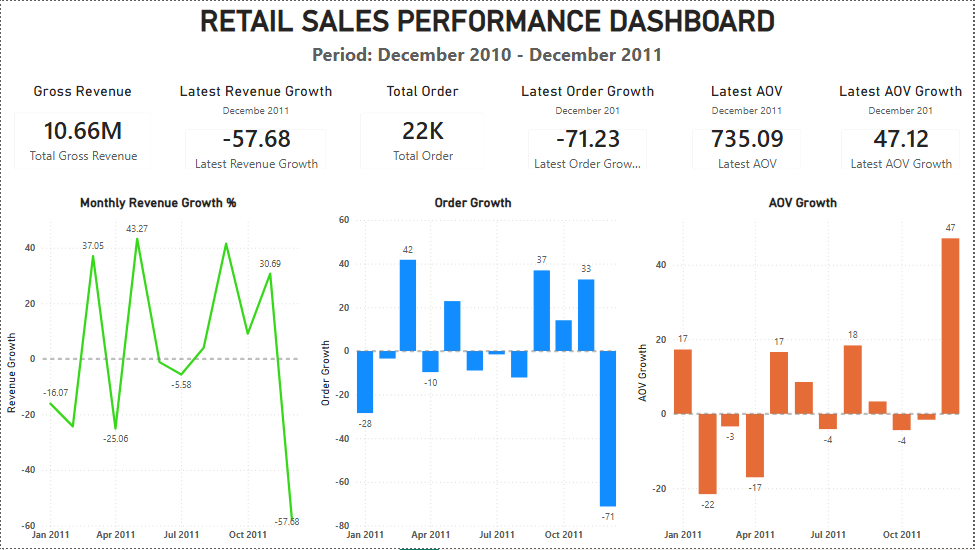

The dashboard page shown, as its layout file describes it:
{"tool":"powerbi","page":{"name":"Sales Analytics","canvas":[1280,720],"ordinal":0},"visuals":[{"type":"textbox","title":"RETAIL SALES PERFORMANCE DASHBOARD","box":[0,4.3,1280,87.1],"z":0},{"type":"cardVisual","title":"Gross Revenue","fields":{"Data":["retail_sales vw_sales_summary.Total Gross Revenue"]},"box":[0,102.7,215.2,136.4],"z":1000},{"type":"cardVisual","title":"Latest Revenue Growth","fields":{"Data":["retail_sales vw_sales_summary.Latest Revenue Growth"]},"box":[225.1,102.7,220.8,136.4],"z":2000},{"type":"cardVisual","title":"Total Order","fields":{"Data":["retail_sales vw_sales_summary.Total  Order"]},"box":[455.7,102.7,198.3,136.4],"z":3000},{"type":"cardVisual","title":"Latest Order Growth","fields":{"Data":["retail_sales vw_sales_summary.Latest Order Growth"]},"box":[676.6,102.7,191.3,136.4],"z":4000},{"type":"cardVisual","title":"Latest AOV","fields":{"Data":["retail_sales vw_sales_summary.Latest AOV"]},"box":[891.8,102.7,178.6,136.4],"z":5000},{"type":"cardVisual","title":"Latest AOV Growth","fields":{"Data":["retail_sales vw_sales_summary.Latest AOV Growth"]},"box":[1088.7,102.7,191.3,136.4],"z":6000},{"type":"lineChart","title":"Monthly Revenue Growth %","fields":{"Category":["retail_sales vw_sales_summary.Month"],"Y":["Sum(retail_sales vw_sales_summary.Revenue Growth)"]},"box":[0,255,413.8,465],"z":7000},{"type":"clusteredColumnChart","title":"Order Growth","fields":{"Category":["retail_sales vw_sales_summary.Month"],"Y":["Sum(retail_sales vw_sales_summary.Order Growth)"]},"box":[413.8,255,416.2,465],"z":8000},{"type":"clusteredColumnChart","title":"AOV Growth","fields":{"Y":["Sum(retail_sales vw_sales_summary.AOV Growth)"],"Category":["retail_sales vw_sales_summary.Month"]},"box":[830,255,450,465],"z":9000}]}

Visuals, with their boxes in screenshot pixels (x1, y1, x2, y2), scaled from the page's 1280x720 canvas onto the 975x550 screenshot:
"RETAIL SALES PERFORMANCE DASHBOARD" textbox: 0:3:974:70
"Gross Revenue" cardVisual: 0:78:164:183
"Latest Revenue Growth" cardVisual: 171:78:340:183
"Total Order" cardVisual: 347:78:498:183
"Latest Order Growth" cardVisual: 515:78:661:183
"Latest AOV" cardVisual: 679:78:815:183
"Latest AOV Growth" cardVisual: 829:78:974:183
"Monthly Revenue Growth %" lineChart: 0:195:315:549
"Order Growth" clusteredColumnChart: 315:195:632:549
"AOV Growth" clusteredColumnChart: 632:195:974:549
